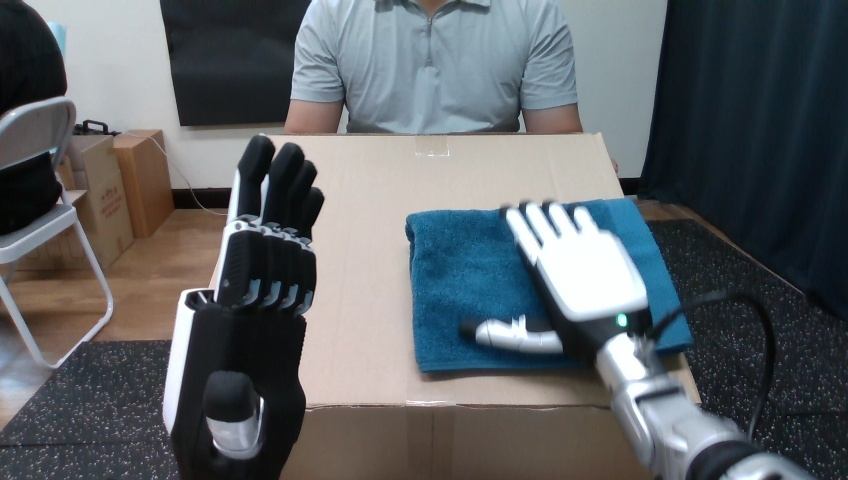left robot hand: (464, 202, 811, 479), (163, 135, 323, 478)
